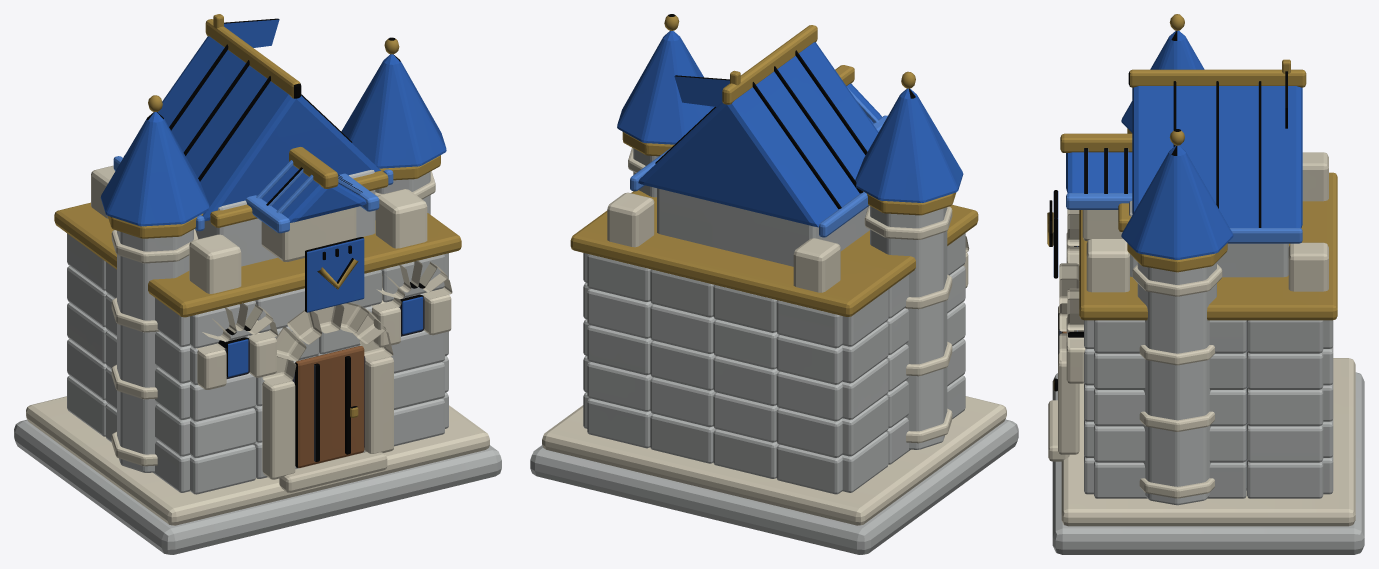
File: main_city.glb
The picture shows the model from 3 angles, left to right: view 1: azimuth 30°, elevation 25°; view 2: azimuth 150°, elevation 25°; view 3: azimuth 270°, elevation 25°; orthographic projection.
Visible parts, largest first — view 1: main_city_surface; view 2: main_city_surface; view 3: main_city_surface.
Boxes of the visible parts, box(x1,y1,x2,y2) form: main_city_surface: box(14, 14, 501, 554); main_city_surface: box(530, 14, 1018, 554); main_city_surface: box(1047, 14, 1364, 554).
Bounding box in the file's own units: 1.75 × 2.06 × 1.42.
Materials: 1 (1 with a texture image).
